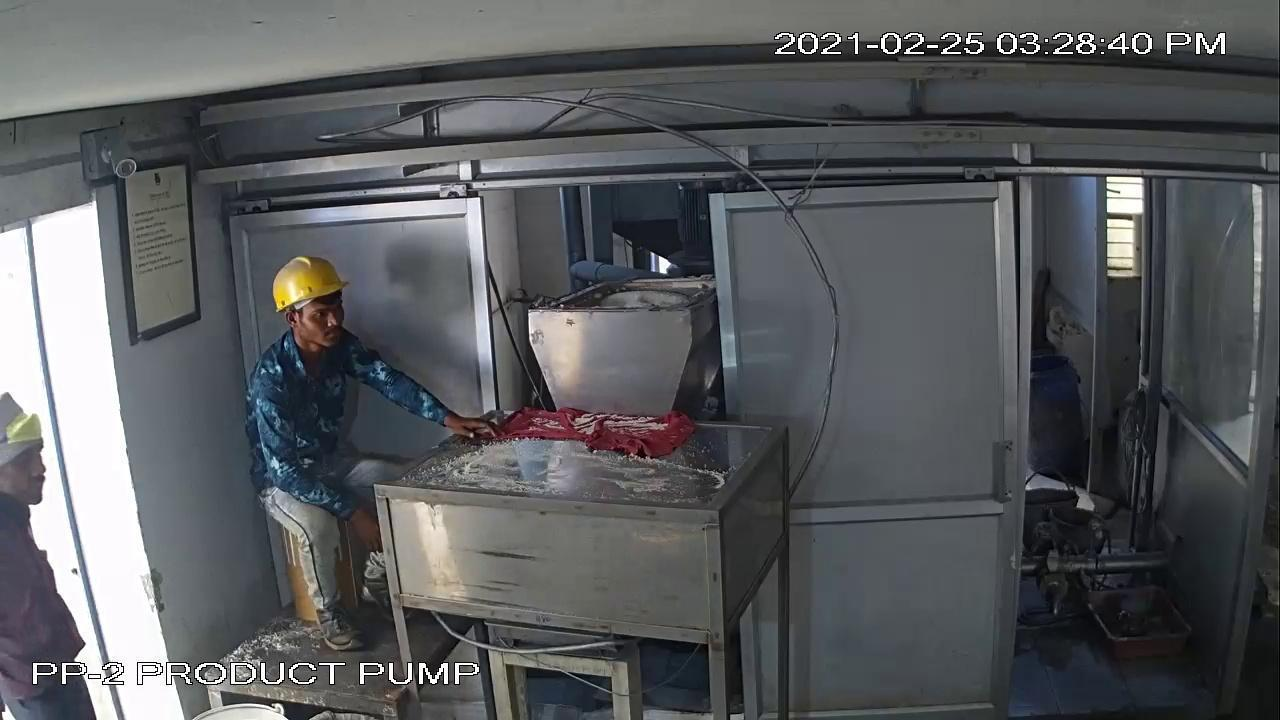helmet: (268, 246, 357, 310)
